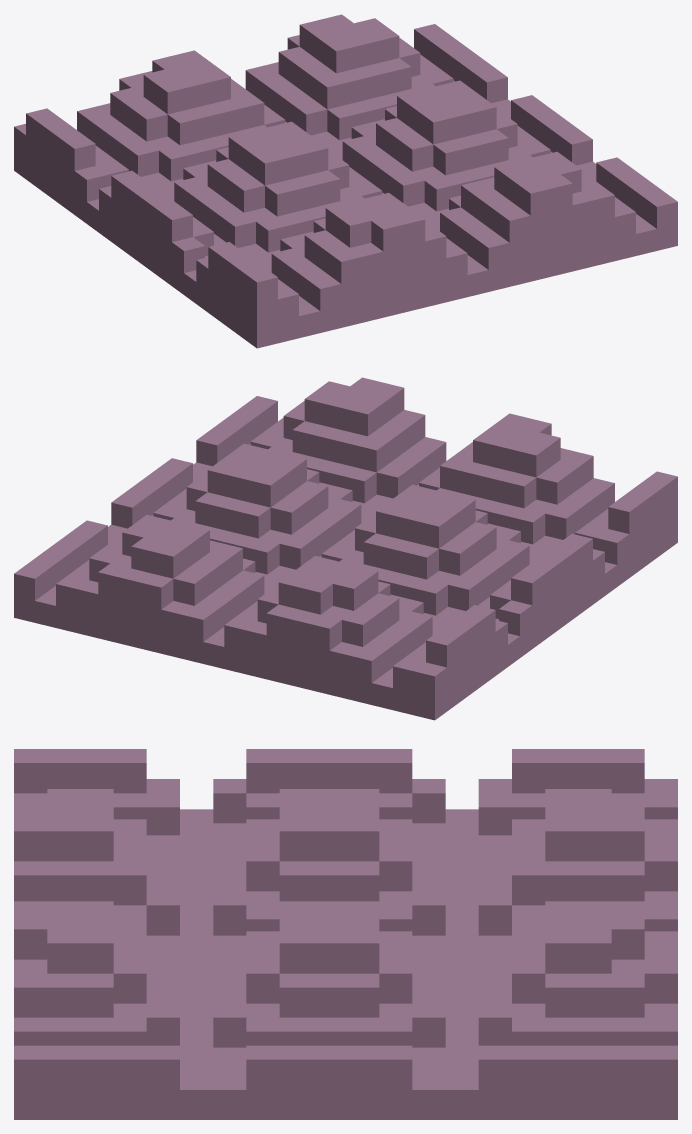
Rendered from alien-biosphere-mounds-tile-266fe40d__22758.glb.
The picture shows the model from 3 angles, top to bottom: view 1: azimuth 30°, elevation 25°; view 2: azimuth 150°, elevation 25°; view 3: azimuth 270°, elevation 25°; orthographic projection. The views are drawn at different scales.
Parts seen in each view (by area): view 1: mounds-tile; view 2: mounds-tile; view 3: mounds-tile.
Part boxes in pixels (x1=…): mounds-tile: x1=14, y1=14, x2=677, y2=348; mounds-tile: x1=14, y1=377, x2=677, y2=720; mounds-tile: x1=14, y1=749, x2=677, y2=1119.
Bounding box in the file's own units: 4 × 0.7998 × 4.
